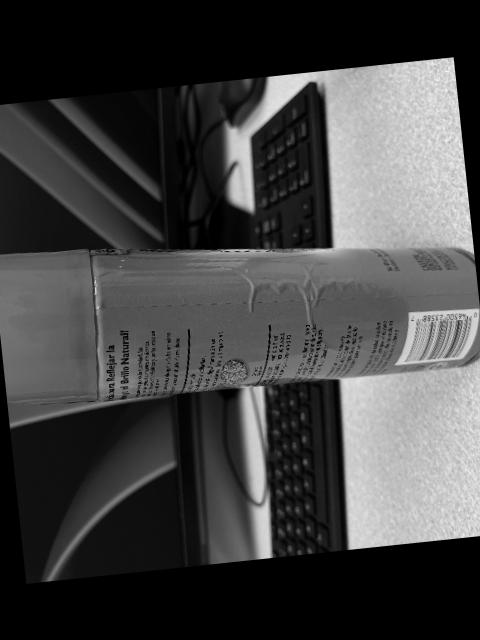Pledge: (0, 246, 480, 404)
